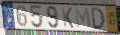5: (29, 4, 45, 29)
6: (15, 5, 29, 29)
9: (46, 5, 59, 30)
D: (91, 7, 107, 31)
K: (61, 6, 75, 30)
M: (74, 6, 93, 30)
